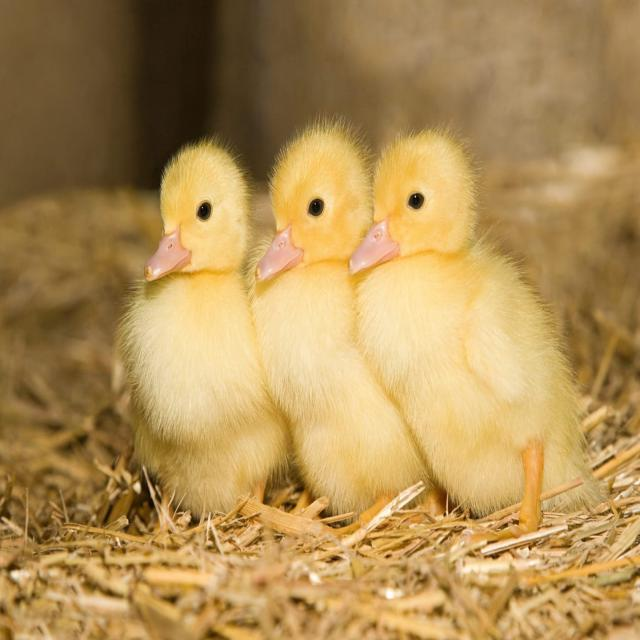Birds: (342, 117, 542, 503), (125, 115, 264, 493), (258, 111, 372, 489)
